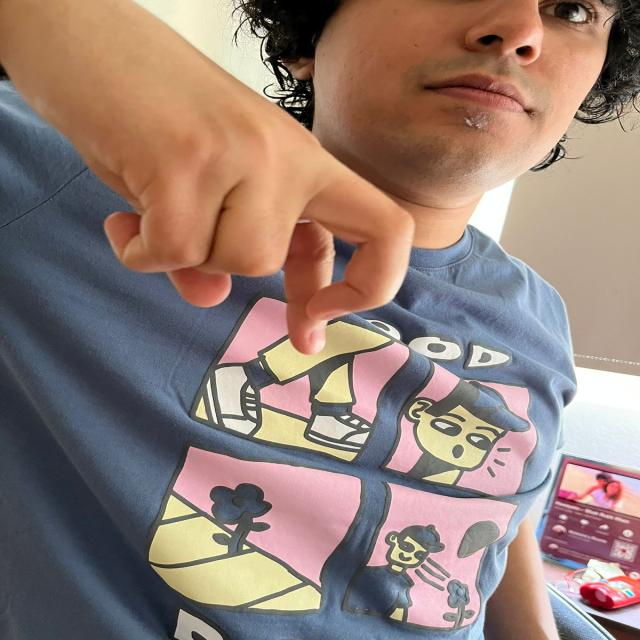P: (6, 0, 422, 363)
